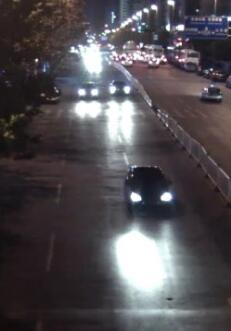bus: (174, 46, 200, 71), (142, 42, 165, 59), (166, 44, 177, 64)
car: (123, 163, 171, 215), (76, 79, 100, 101), (106, 78, 131, 97), (198, 84, 223, 103), (38, 85, 62, 103), (212, 66, 226, 82), (145, 55, 162, 68), (203, 63, 215, 77), (120, 55, 133, 67), (108, 53, 119, 63)
